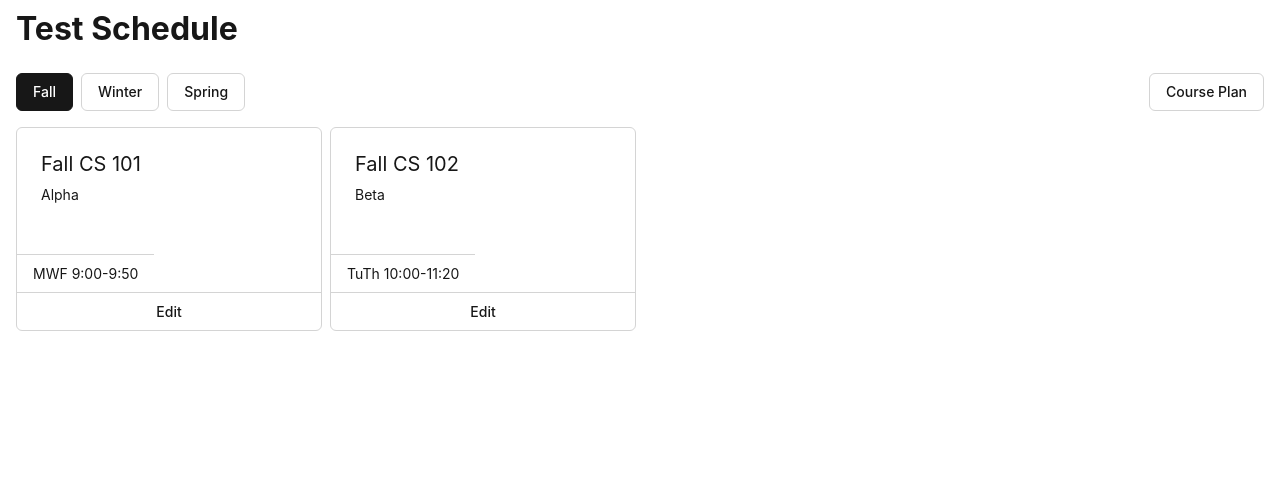
it: Edit course flow › opens a prefilled edit form from a card Edit link and cancels back to the list
Expected: the button "Fall CS 101 Alpha MWF 9:00-9:50" is shown, [17,128,321,292]
Click the 1st link "Edit" at (169, 310), box [17,292,321,330]
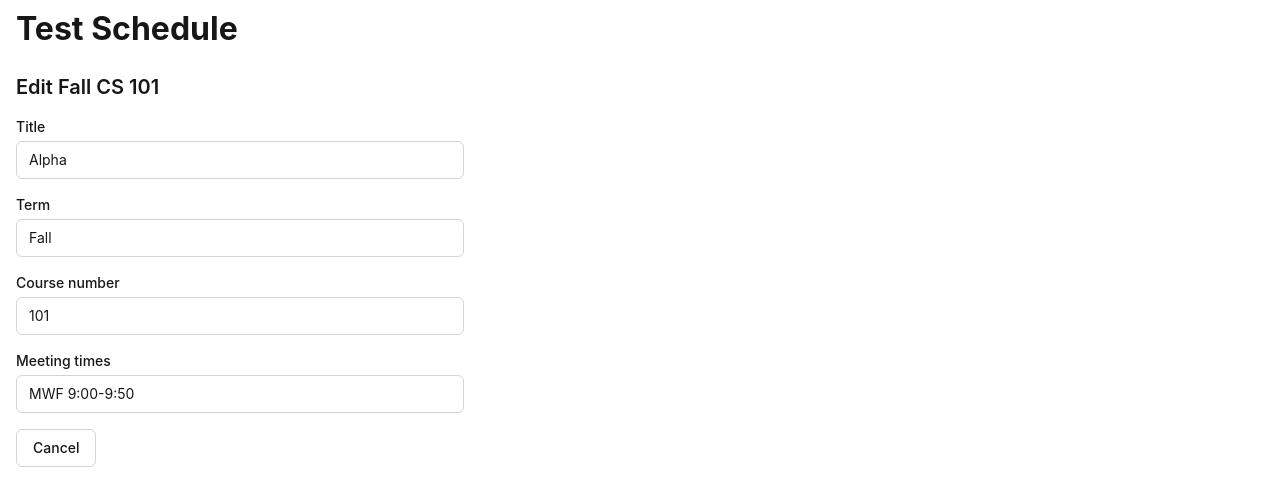
Result: the form is shown
Result: the heading "Edit Fall CS 101" is shown at [16,74,159,98]
Result: the field labelled "Title" holds "Alpha" at [16,140,464,178]
// Submitting is intercepted and stays on the edit screen.
Submit the form, box [16,116,464,466]
Result: the heading "Edit Fall CS 101" is shown at [16,74,159,98]
Click the button "Cancel" at (56, 448), box [16,428,96,466]
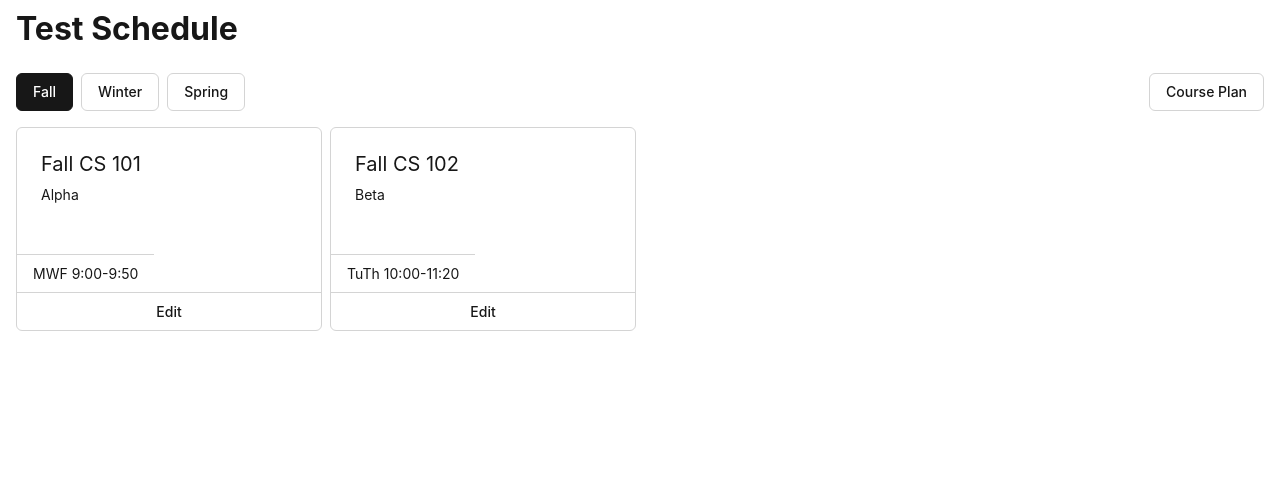
Result: the button "Fall CS 101 Alpha MWF 9:00-9:50" is shown at [17,128,321,292]
Result: the heading "Edit Fall CS 101" is gone
